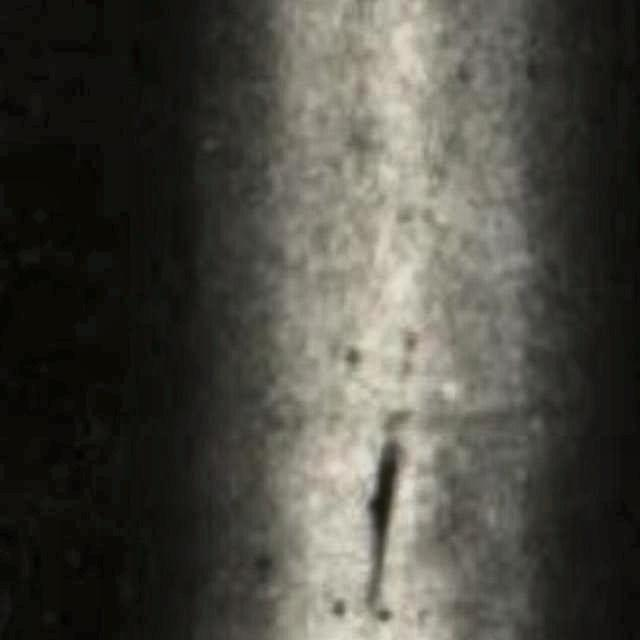Slag: (314, 329, 464, 626)
